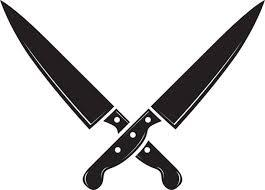Knife: (0, 0, 182, 189), (82, 0, 264, 189)
